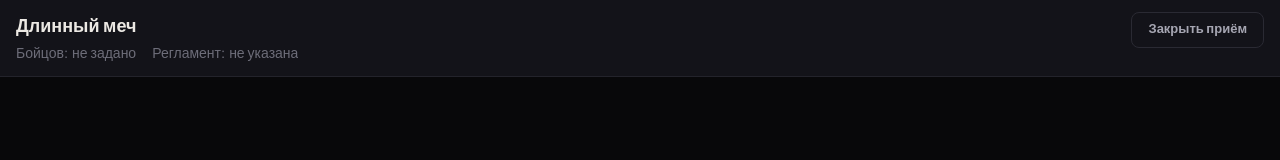
Test case: NominationInlineHeader › saves the title on Enter and shows a success toast (AC-1)
This screenshot has width=1280, height=160.
Step 1. Click the button with aria-label "Название" → [76, 26], box [16,12,136,40]
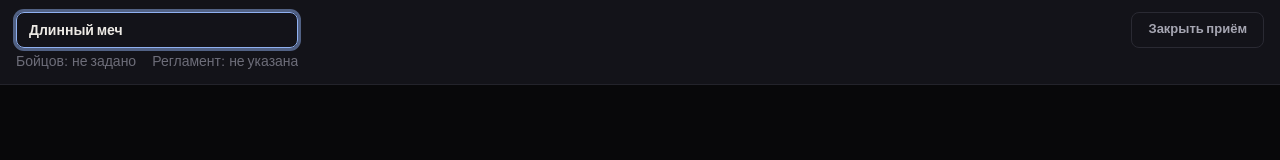
Step 2. Replace the text in the field named "Название" with "Длинный меч · муж" → [157, 30], box [16,12,298,48]
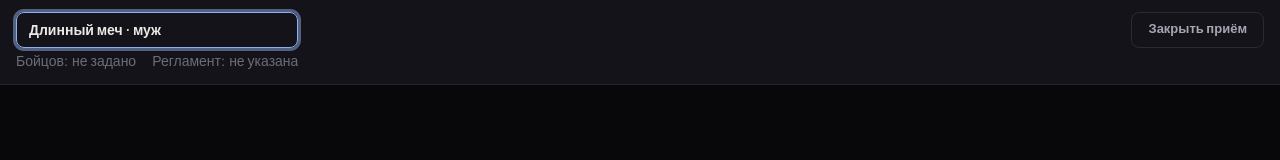
Step 3. Press Enter in the field named "Название", box [16,12,298,48]
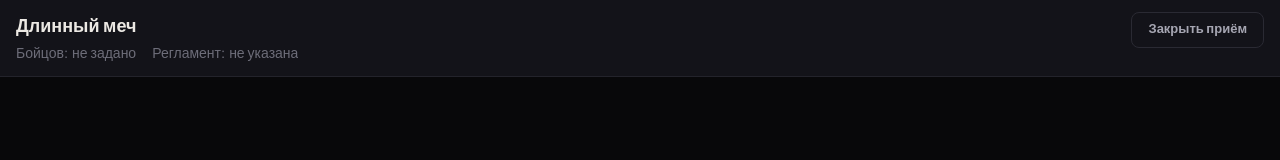
Expected: the button with aria-label "Название" is shown, [16,12,136,40]
